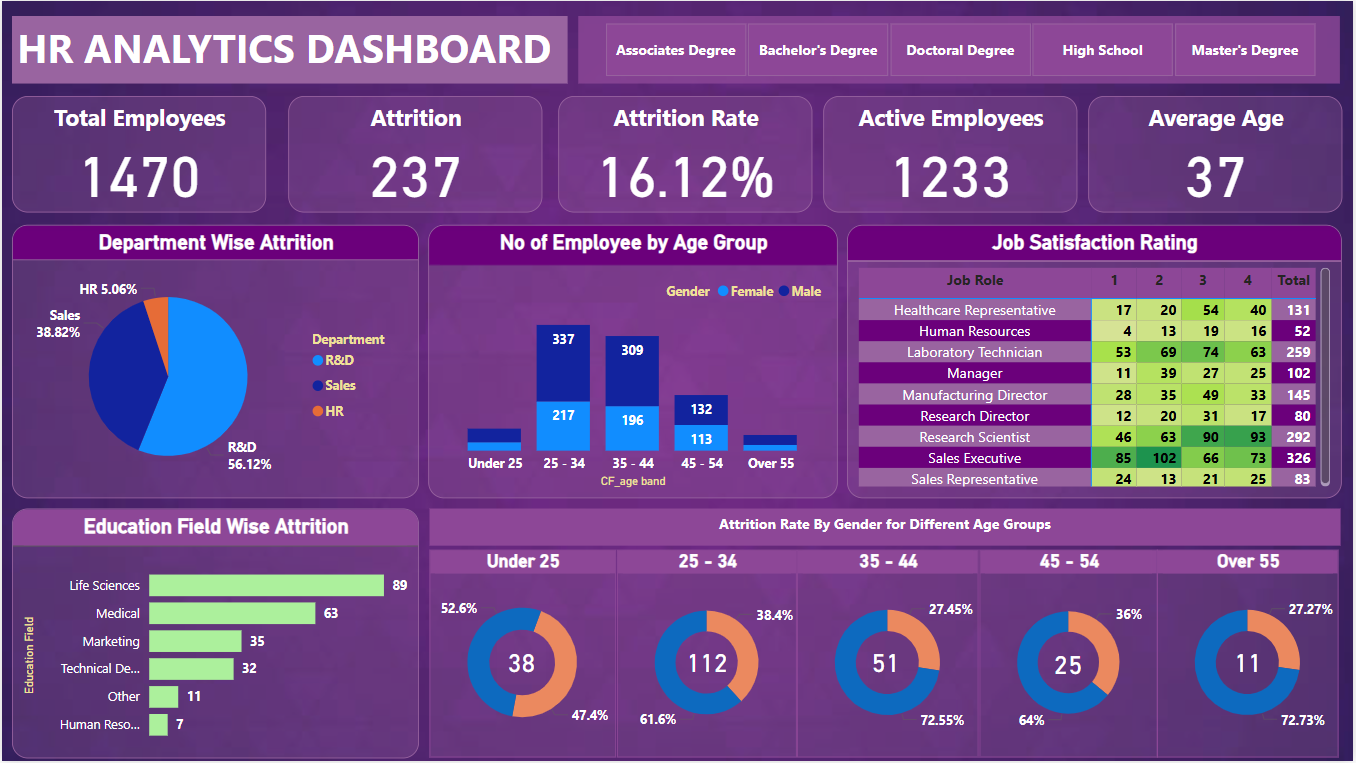

Layout of this report page (visuals, bound fields, positions):
{"tool":"powerbi","page":{"name":"Dashboard","canvas":[1280,720],"ordinal":0},"visuals":[{"type":"card","title":"Total Employees","fields":{"Values":["Sum(HR_data.Employee Count)"]},"box":[9.5,90,240.4,110.1],"z":0},{"type":"card","title":"Attrition ","fields":{"Values":["Sum(HR_data.Attrition Count)"]},"box":[271.2,90,240.4,110.1],"z":1000},{"type":"card","title":"Attrition Rate","fields":{"Values":["HR_data.Attrition Rate"]},"box":[527,90,240.4,110.1],"z":2000},{"type":"card","title":"Active Employees","fields":{"Values":["HR_data.Active Employees"]},"box":[778.1,90,240.4,110.1],"z":3000},{"type":"card","title":"Average Age","fields":{"Values":["Avg(HR_data.Age)"]},"box":[1029.2,90,240.4,110.1],"z":4000},{"type":"pieChart","title":"Department Wise Attrition","fields":{"Category":["HR_data.Department"],"Y":["Sum(HR_data.Attrition Count)"]},"box":[9.8,211.7,385.5,259.4],"z":5000},{"type":"columnChart","title":"No of Employee by Age Group","fields":{"Category":["HR_data.CF_age band"],"Y":["Sum(HR_data.Employee Count)"],"Series":["HR_data.Gender"]},"box":[403.8,211.7,387.9,259.4],"z":6000},{"type":"pivotTable","title":"Job Satisfaction Rating","fields":{"Rows":["HR_data.Job Role"],"Columns":["HR_data.Job Satisfaction"],"Values":["Sum(HR_data.Employee Count)"]},"box":[800.3,211.7,468.7,259.4],"z":7000},{"type":"barChart","title":"Education Field Wise Attrition","fields":{"Category":["HR_data.Education Field"],"Y":["Sum(HR_data.Attrition Count)"]},"box":[9.8,480.9,385.5,237],"z":8000},{"type":"donutChart","title":"Under 25","fields":{"Category":["HR_data.Gender"],"Y":["Sum(HR_data.Attrition Count)"],"Series":["HR_data.CF_age band"]},"box":[405,520.5,176.4,197],"z":9000},{"type":"textbox","box":[405,480.9,863,35],"z":10000},{"type":"donutChart","title":"25 -  34","fields":{"Category":["HR_data.Gender"],"Series":["HR_data.CF_age band"],"Y":["Sum(HR_data.Attrition Count)"]},"box":[583.1,520.5,170.6,197],"z":11000},{"type":"donutChart","title":"35 - 44","fields":{"Category":["HR_data.Gender"],"Series":["HR_data.CF_age band"],"Y":["Sum(HR_data.Attrition Count)"]},"box":[753.7,520.5,172,197],"z":12000},{"type":"donutChart","title":"45 - 54","fields":{"Category":["HR_data.Gender"],"Series":["HR_data.CF_age band"],"Y":["Sum(HR_data.Attrition Count)"]},"box":[925.7,520.5,169.1,197],"z":13000},{"type":"donutChart","title":"Over 55","fields":{"Category":["HR_data.Gender"],"Series":["HR_data.CF_age band"],"Y":["Sum(HR_data.Attrition Count)"]},"box":[1094.9,520.5,172,197],"z":14000},{"type":"card","fields":{"Values":["Sum(HR_data.Attrition Count)"]},"box":[469.4,605,46.7,42.3],"z":15000},{"type":"card","fields":{"Values":["Sum(HR_data.Attrition Count)"]},"box":[640,605,56.9,42.3],"z":16000},{"type":"card","fields":{"Values":["Sum(HR_data.Attrition Count)"]},"box":[813.5,605,46.7,42.3],"z":17000},{"type":"card","fields":{"Values":["Sum(HR_data.Attrition Count)"]},"box":[978.2,609.4,64.1,37.9],"z":18000},{"type":"card","fields":{"Values":["Sum(HR_data.Attrition Count)"]},"box":[1157.5,605,46.7,42.3],"z":19000},{"type":"textbox","box":[9.8,14.7,526.2,63.6],"z":20000},{"type":"slicer","fields":{"Values":["HR_data.Education"]},"box":[545.8,14.7,722,63.6],"z":21000}]}

Visuals, with their boxes in screenshot pixels (x1, y1, x2, y2), scaled from the page's 1280x720 canvas onto the 1356x763 screenshot:
"Total Employees" card: Rect(10, 95, 265, 212)
"Attrition " card: Rect(287, 95, 542, 212)
"Attrition Rate" card: Rect(558, 95, 813, 212)
"Active Employees" card: Rect(824, 95, 1079, 212)
"Average Age" card: Rect(1090, 95, 1345, 212)
"Department Wise Attrition" pieChart: Rect(10, 224, 419, 499)
"No of Employee by Age Group" columnChart: Rect(428, 224, 839, 499)
"Job Satisfaction Rating" pivotTable: Rect(848, 224, 1344, 499)
"Education Field Wise Attrition" barChart: Rect(10, 510, 419, 761)
"Under 25" donutChart: Rect(429, 552, 616, 760)
textbox: Rect(429, 510, 1343, 547)
"25 -  34" donutChart: Rect(618, 552, 798, 760)
"35 - 44" donutChart: Rect(798, 552, 981, 760)
"45 - 54" donutChart: Rect(981, 552, 1160, 760)
"Over 55" donutChart: Rect(1160, 552, 1342, 760)
card - Sum(HR_data.Attrition Count): Rect(497, 641, 547, 686)
card - Sum(HR_data.Attrition Count): Rect(678, 641, 738, 686)
card - Sum(HR_data.Attrition Count): Rect(862, 641, 911, 686)
card - Sum(HR_data.Attrition Count): Rect(1036, 646, 1104, 686)
card - Sum(HR_data.Attrition Count): Rect(1226, 641, 1276, 686)
textbox: Rect(10, 16, 568, 83)
slicer - HR_data.Education: Rect(578, 16, 1343, 83)
